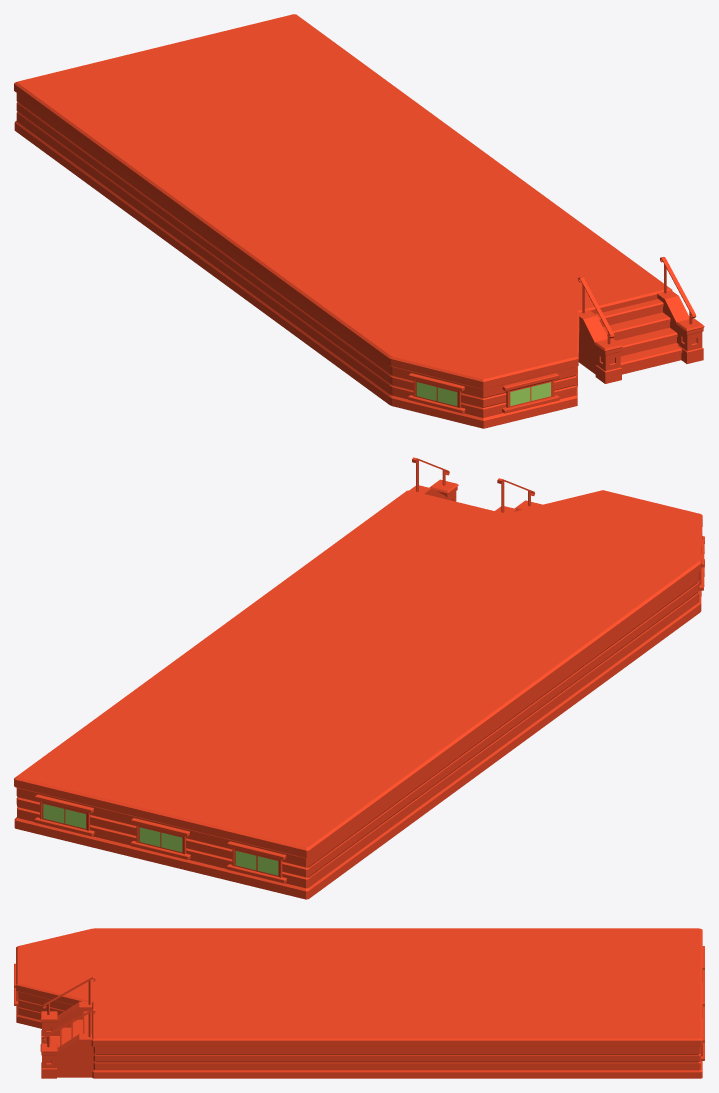
Rendered from SM_Bayhouse_Bottom_Small_A_FB_City.fbx.
3 renders of one model, top to bottom at view 1: azimuth 30°, elevation 25°; view 2: azimuth 150°, elevation 25°; view 3: azimuth 270°, elevation 25°, orthographic. The views are drawn at different scales.
Parts seen in each view (by area): view 1: SM_Bayhouse_Bottom_Small_A_FB_City; view 2: SM_Bayhouse_Bottom_Small_A_FB_City; view 3: SM_Bayhouse_Bottom_Small_A_FB_City.
Boxes of the visible parts, left/top/right/bottom form: SM_Bayhouse_Bottom_Small_A_FB_City: left=14, top=14, right=704, bottom=428; SM_Bayhouse_Bottom_Small_A_FB_City: left=14, top=457, right=704, bottom=899; SM_Bayhouse_Bottom_Small_A_FB_City: left=14, top=928, right=704, bottom=1078.
Bounding box in the file's own units: 6.08 × 1.67 × 15.88.
